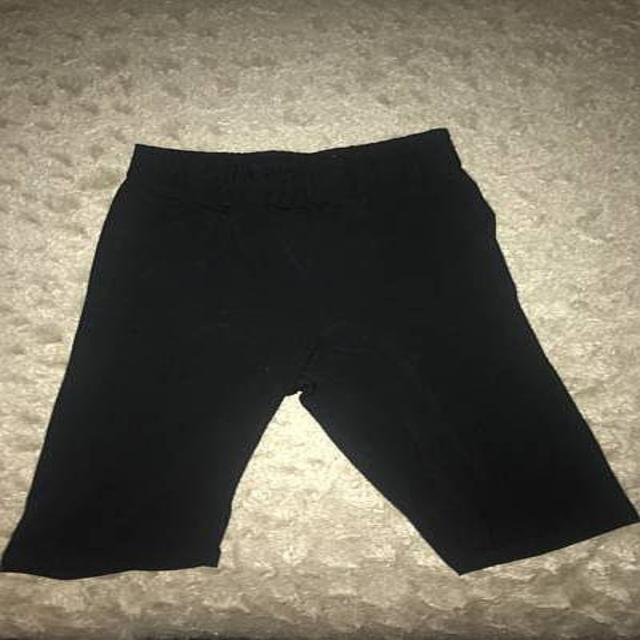SHORT: (2, 118, 640, 589)
